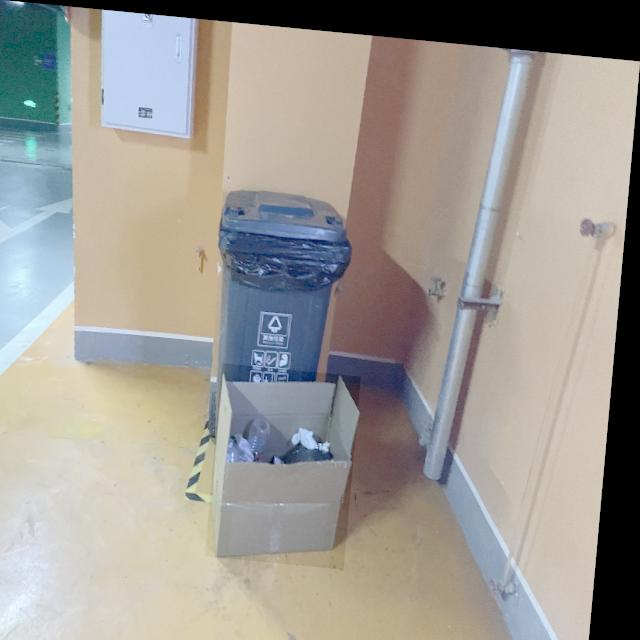garbage: (215, 358, 367, 562)
garbage_bin: (206, 181, 357, 441)
